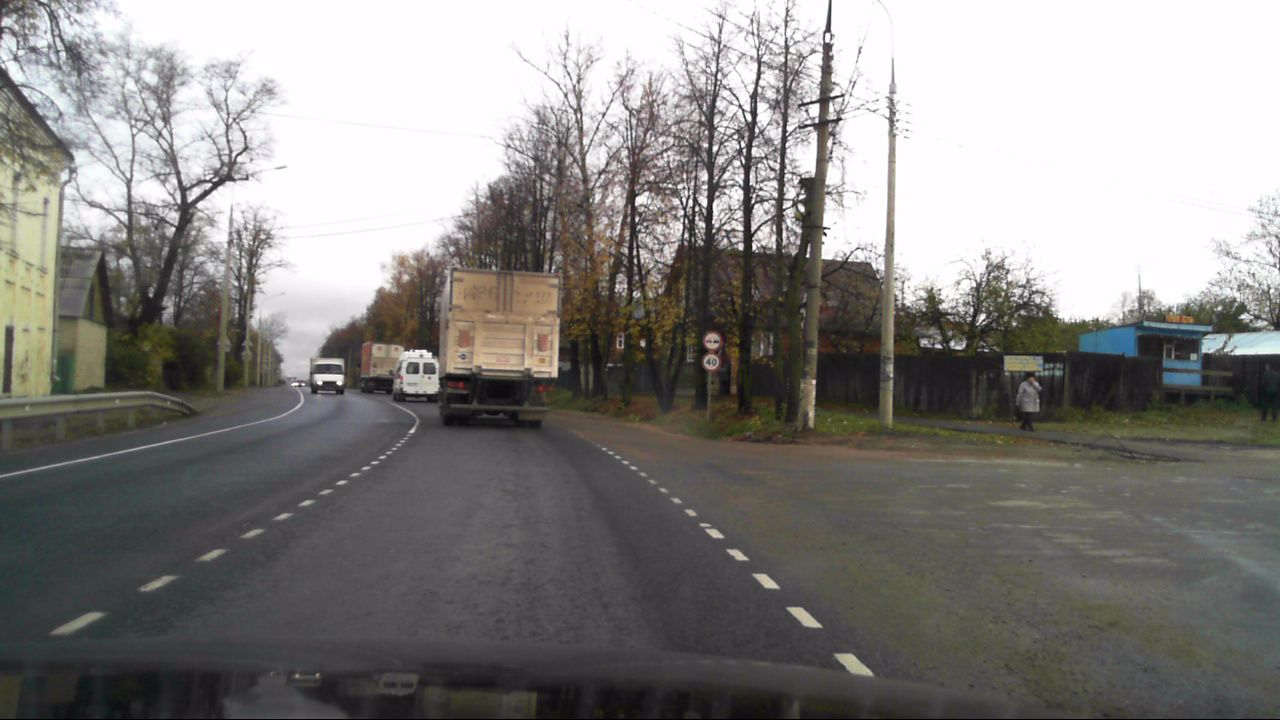speed_warning_40: (702, 353, 720, 370)
